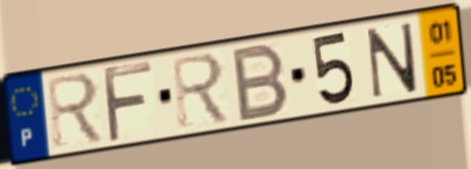5: (310, 29, 356, 108)
B: (231, 40, 292, 125)
F: (99, 59, 156, 146)
N: (365, 20, 420, 102)
R: (43, 70, 108, 151), (169, 50, 234, 131)
